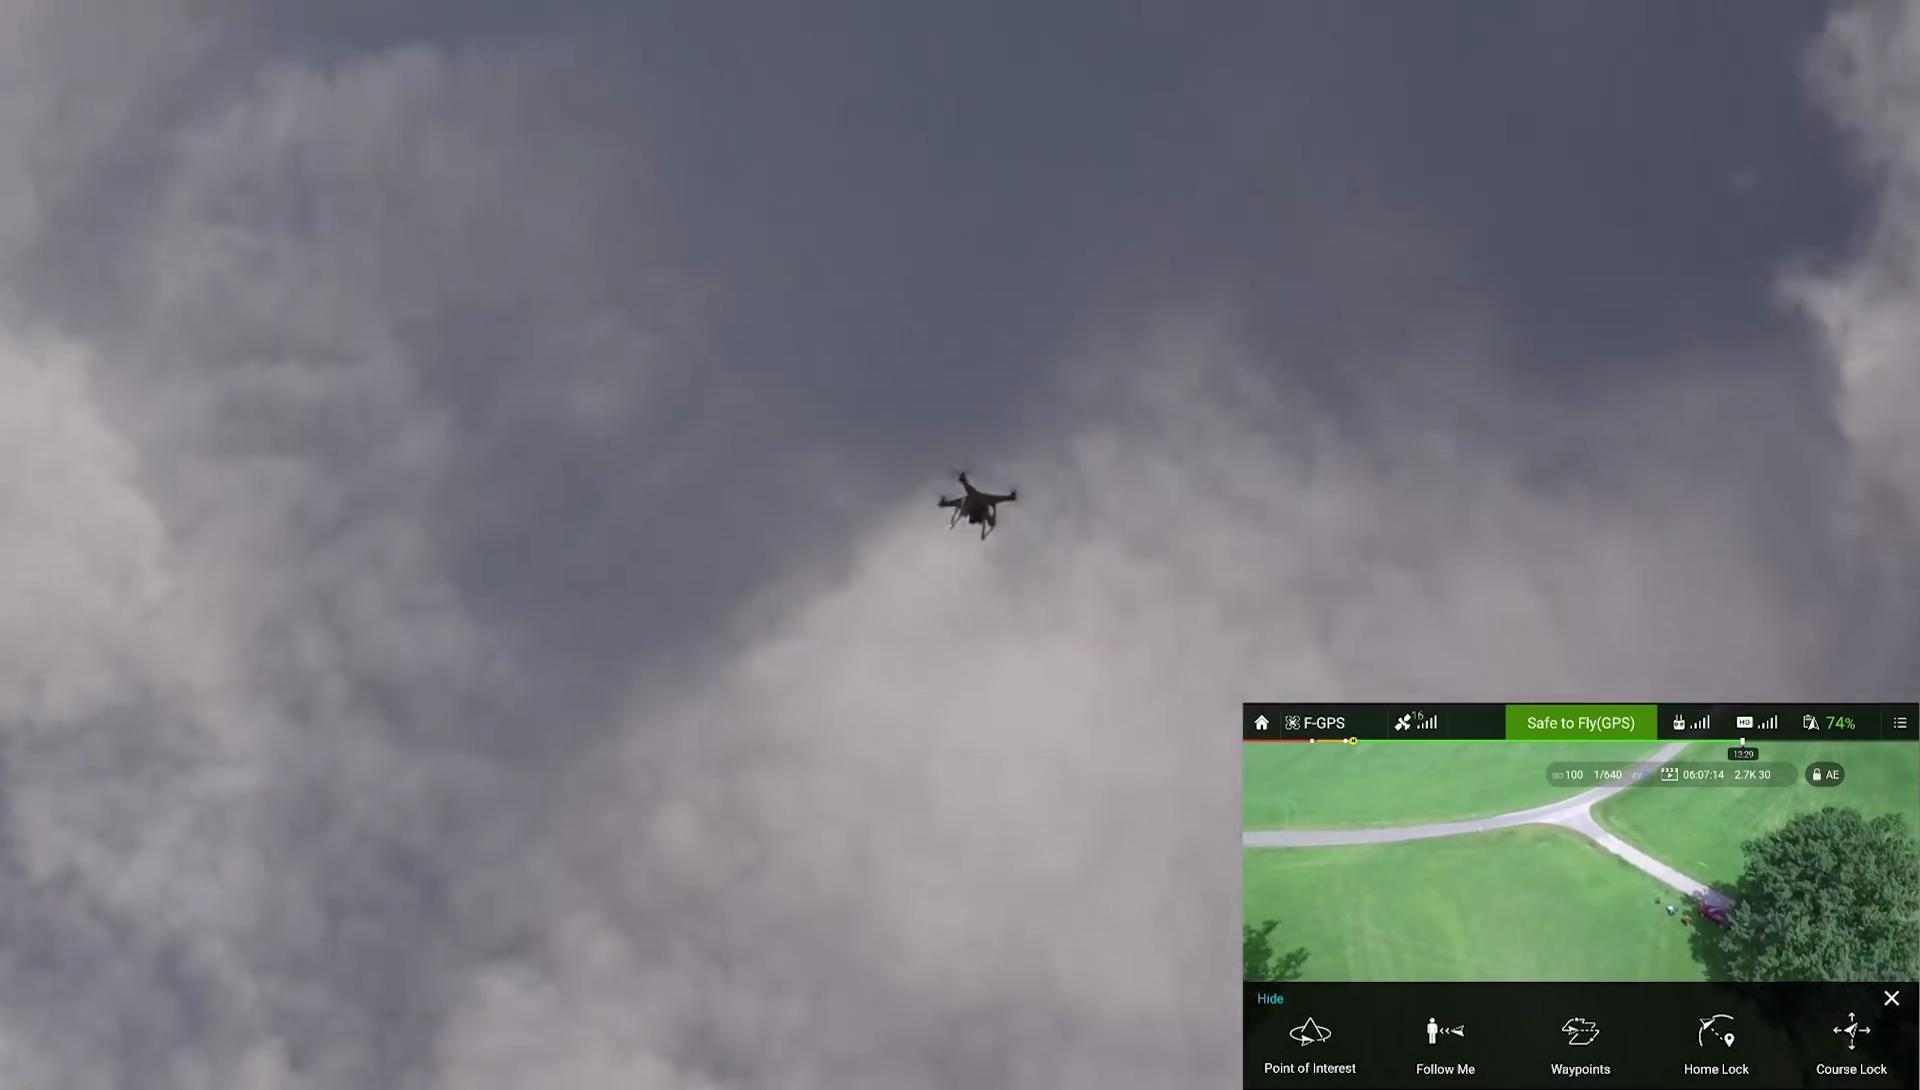drone: (923, 460, 1022, 536)
